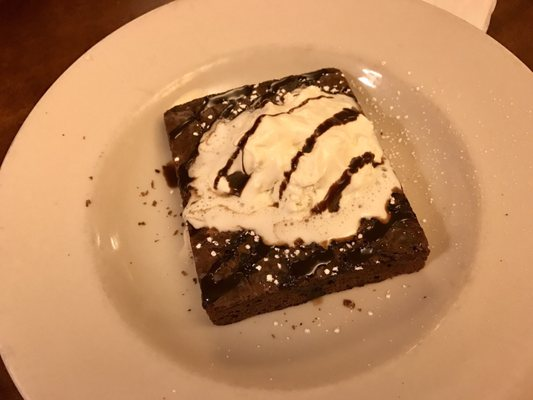curry: (1, 0, 527, 400)
sushi: (164, 68, 430, 326)
